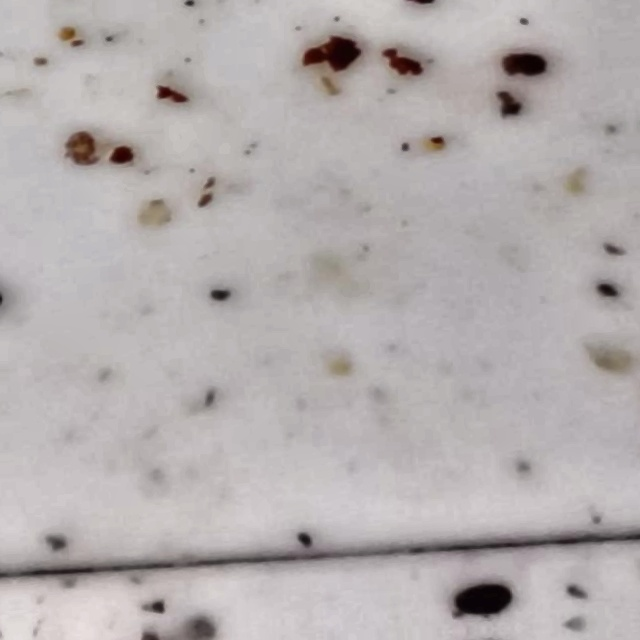varroa: (455, 581, 513, 614)
